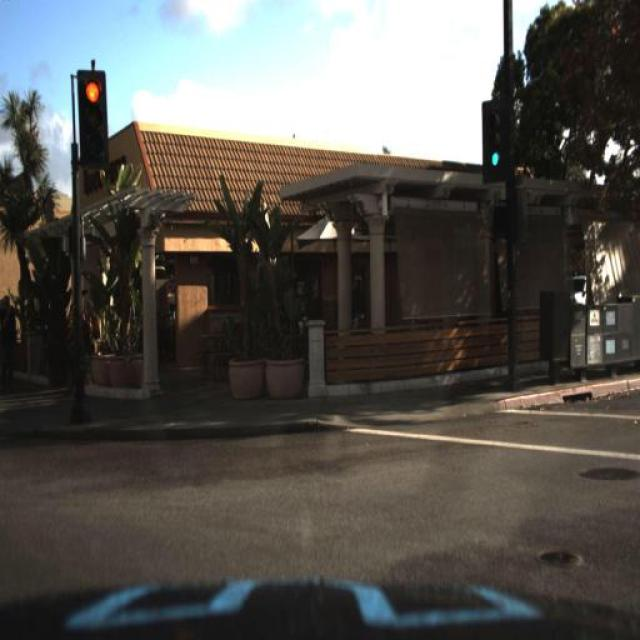trafficLight: (0, 290, 28, 394), (0, 280, 20, 406)
trafficLight-RedLeft: (75, 69, 111, 172), (82, 70, 107, 170)
